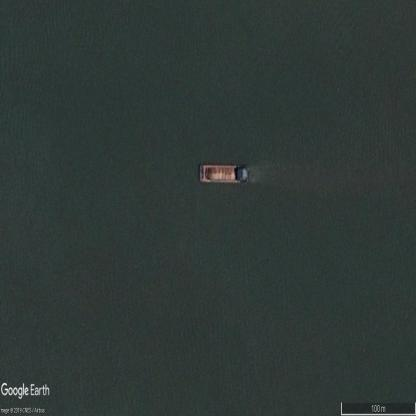ship: (199, 162, 252, 185)
